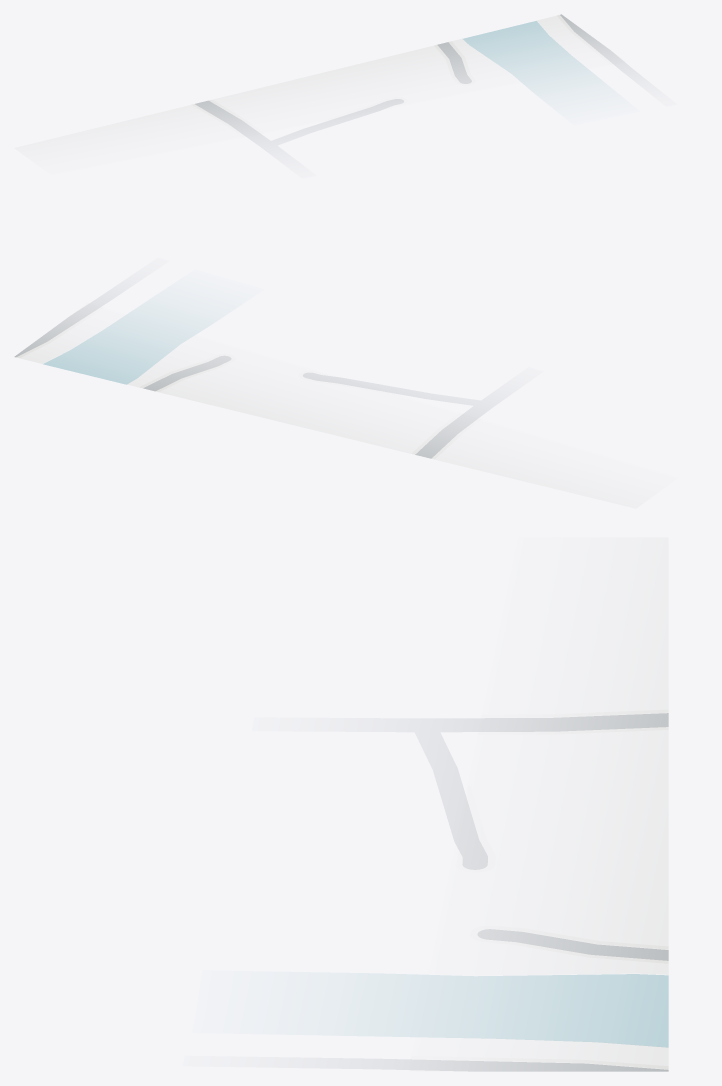
3 views of the same model, one above another, from view 1: azimuth 30°, elevation 25°; view 2: azimuth 150°, elevation 25°; view 3: azimuth 270°, elevation 25° (orthographic). The views are drawn at different scales.
Visible parts, largest first — view 1: city; view 2: city; view 3: city.
Boxes of the visible parts, x1,y1,x2,y2 form: city: [34, 14, 632, 143]; city: [14, 295, 616, 503]; city: [368, 550, 668, 1071].
Bounding box in the file's own units: 500 × 0.4 × 243.
